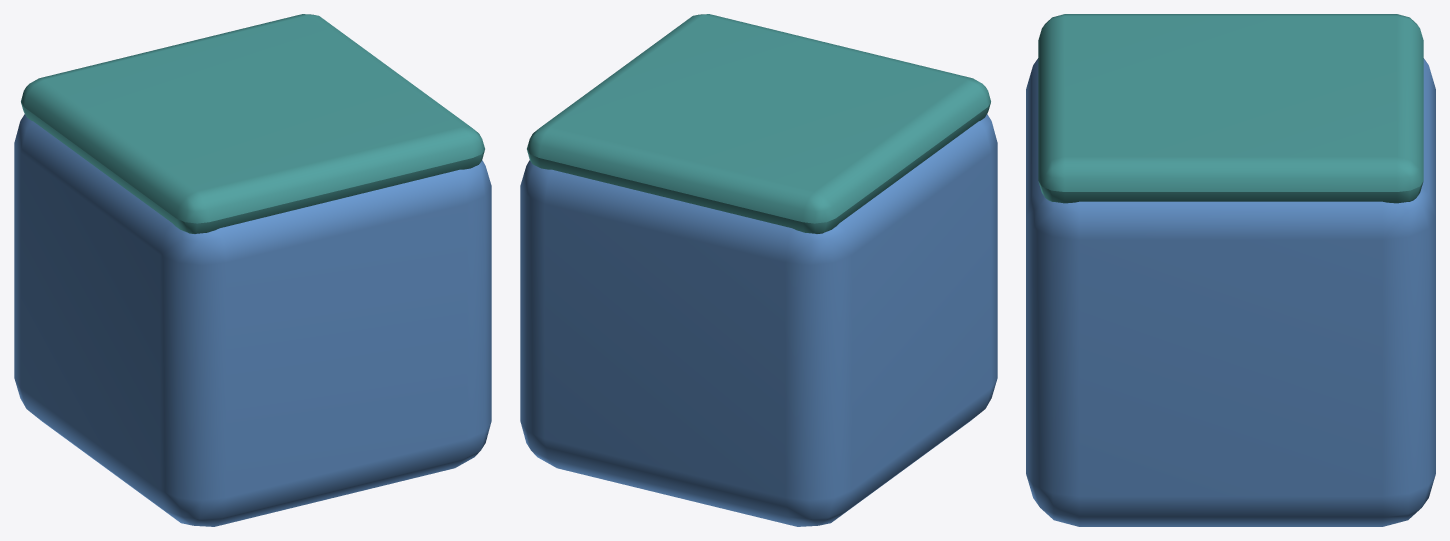
File: prop_case.glb
3 renders of one model, left to right at view 1: azimuth 30°, elevation 25°; view 2: azimuth 150°, elevation 25°; view 3: azimuth 270°, elevation 25°, orthographic. The views are drawn at different scales.
Parts seen in each view (by area): view 1: Pencil case base, Pencil case raised lid; view 2: Pencil case base, Pencil case raised lid; view 3: Pencil case base, Pencil case raised lid.
Part boxes in pixels (x1=…): Pencil case base: x1=14, y1=114, x2=491, y2=526; Pencil case raised lid: x1=21, y1=14, x2=484, y2=233; Pencil case base: x1=520, y1=114, x2=997, y2=526; Pencil case raised lid: x1=527, y1=14, x2=990, y2=233; Pencil case base: x1=1026, y1=58, x2=1435, y2=526; Pencil case raised lid: x1=1038, y1=14, x2=1423, y2=203.
Bounding box in the file's own units: 0.02 × 0.02 × 0.02.
